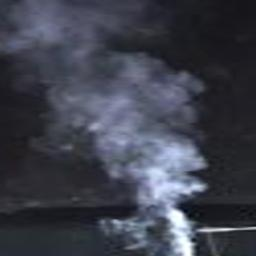smoke: (0, 0, 206, 255)
